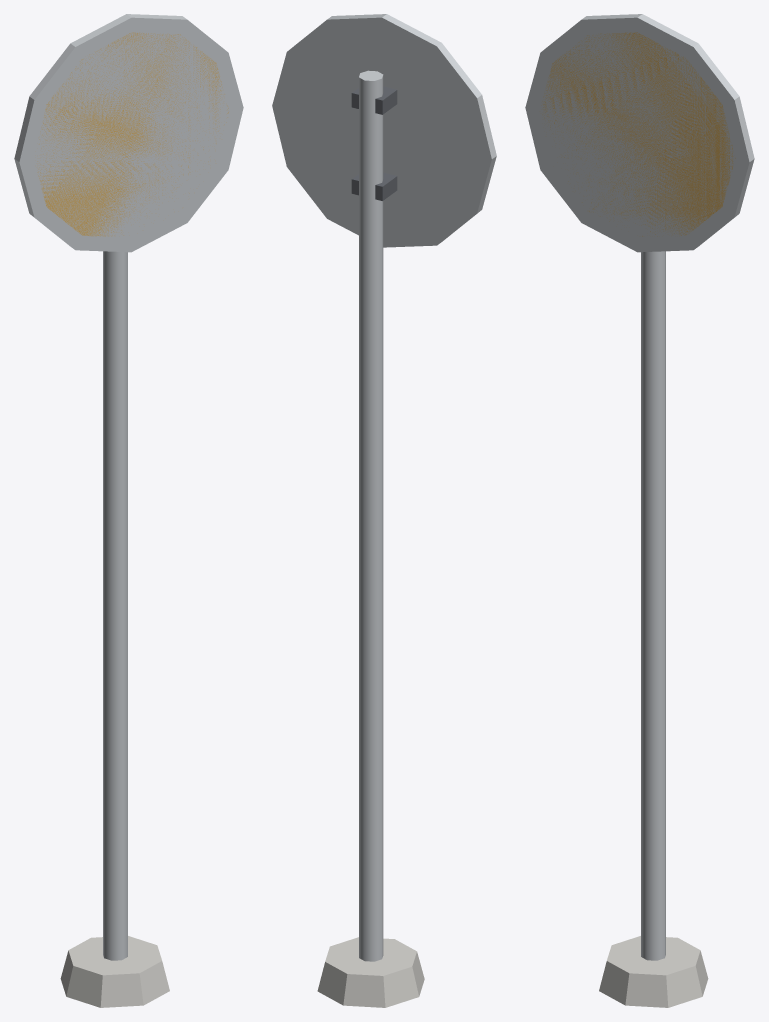
Rendered from SM_RoadSign_Speed.fbx.
3 renders of one model, left to right at view 1: azimuth 30°, elevation 25°; view 2: azimuth 150°, elevation 25°; view 3: azimuth 330°, elevation 25°, orthographic. The views are drawn at different scales.
Parts seen in each view (by area): view 1: SM_RoadSign_Speed; view 2: SM_RoadSign_Speed; view 3: SM_RoadSign_Speed.
Boxes of the visible parts, x1,y1,x2,y2 form: SM_RoadSign_Speed: (14, 14, 243, 1007); SM_RoadSign_Speed: (272, 14, 496, 1007); SM_RoadSign_Speed: (525, 14, 754, 1007).
Size of the model in its own units: 64 by 267 by 28.
